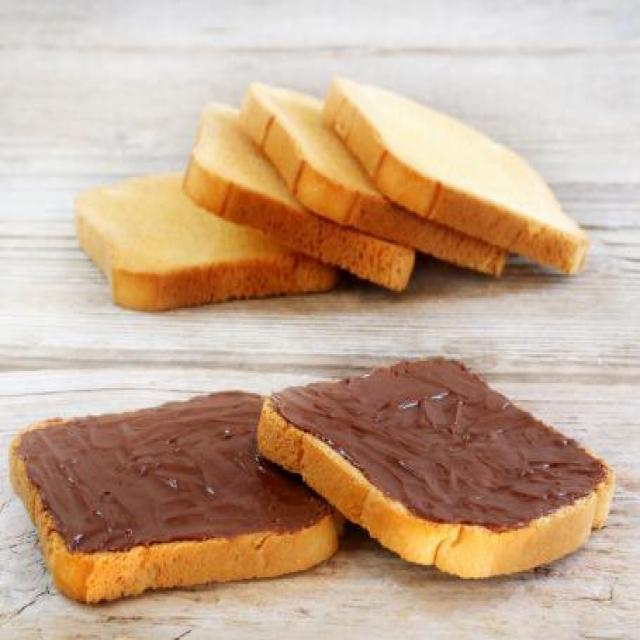Bread: (321, 66, 603, 280)
Spread: (270, 359, 613, 543), (4, 388, 336, 552)
